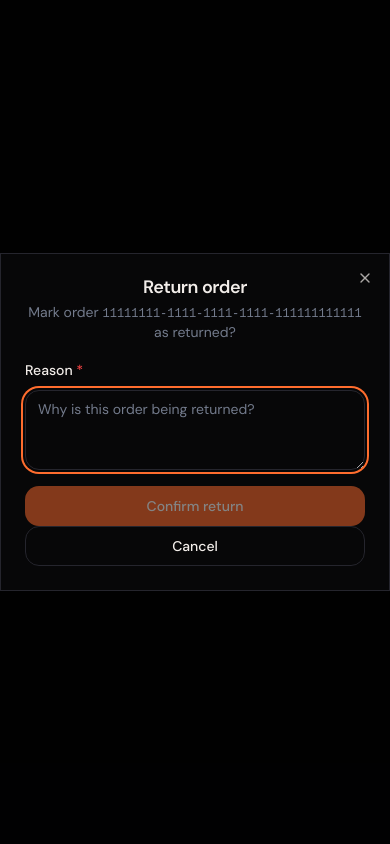
Scenario: ReturnOrderModal - validation › enables submit when reason is non-empty after trim
The image size is (390, 844).
Type "customer returned package" into the text box labelled "Reason *". click: (195, 430)
box: [25,390,365,470]
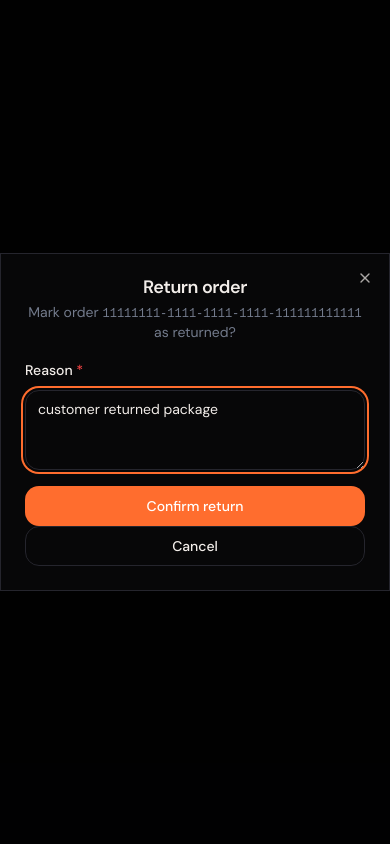
expect the button with test id "return-order-confirm" is enabled: met, box [25,486,365,526]
